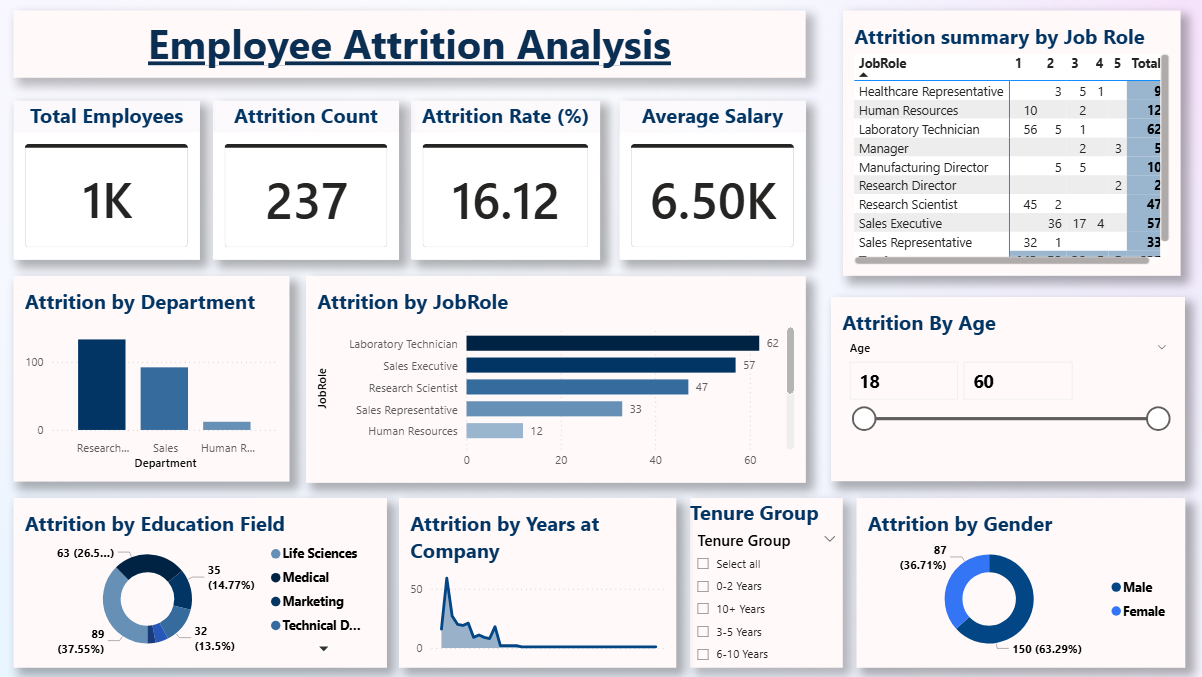

This screenshot's page, from the dashboard's own definition file:
{"tool":"powerbi","page":{"name":"Attrition Overview","canvas":[1280,720],"ordinal":0},"visuals":[{"type":"cardVisual","title":"Total Employees","fields":{"Data":["HR Data.Total Employees"]},"box":[17.5,106.6,197.2,168.6],"z":0},{"type":"cardVisual","title":"Attrition ","fields":{"Data":["HR Data.Attrition Count"]},"box":[229,106.6,197.2,168.6],"z":1000},{"type":"cardVisual","title":"Attrition Rate (%)","fields":{"Data":["HR Data.Attrition Rate (%)"]},"box":[439,106.6,200.4,168.6],"z":2000},{"type":"textbox","box":[17.5,11.1,839.8,71.6],"z":3000},{"type":"clusteredColumnChart","title":"Attrition by Department","fields":{"Category":["HR Data.Department"],"Y":["HR Data.Attrition Count"]},"box":[17.5,292.7,292.7,217.9],"z":4000},{"type":"clusteredBarChart","title":"Attrition by JobRole","fields":{"Category":["HR Data.JobRole"],"Y":["HR Data.Attrition Count"]},"box":[327.7,292.7,529.7,219.5],"z":5000},{"type":"slicer","title":"Tenure Group","fields":{"Values":["HR Data.Tenure Group"]},"box":[734.9,528.1,162.2,179.7],"z":6000},{"type":"donutChart","title":"Attrition by Gender","fields":{"Category":["HR Data.Gender"],"Y":["HR Data.Attrition Count"]},"box":[911.4,528.1,348.3,179.7],"z":7000},{"type":"cardVisual","title":"Average Salary","fields":{"Data":["Avg(HR Data.Monthly Income)"]},"box":[660.1,106.6,197.2,168.6],"z":8000},{"type":"pivotTable","title":"Attrition summary by Job Role","fields":{"Rows":["HR Data.JobRole"],"Columns":["HR Data.JobLevel"],"Values":["HR Data.Attrition Count"]},"box":[897.1,11.1,357.9,281.5],"z":9000},{"type":"donutChart","title":"Attrition by Education Field","fields":{"Category":["HR Data.EducationField","HR Data.Years at Company"],"Y":["HR Data.Attrition Count"]},"box":[17.5,528.1,396.1,179.7],"z":10000},{"type":"areaChart","title":"Attrition by Years at Company","fields":{"Category":["HR Data.Years at Company"],"Y":["HR Data.Attrition Count"]},"box":[426.3,528.1,294.3,179.7],"z":11000},{"type":"slicer","title":"Attrition By Age","fields":{"Values":["HR Data.Age"]},"box":[884.4,314.9,375.4,195.6],"z":12000}]}

Visuals, with their boxes in screenshot pixels (x1, y1, x2, y2), scaled from the page's 1280x720 canvas onto the 1202x677 screenshot:
"Total Employees" cardVisual: Rect(16, 100, 202, 259)
"Attrition " cardVisual: Rect(215, 100, 400, 259)
"Attrition Rate (%)" cardVisual: Rect(412, 100, 600, 259)
textbox: Rect(16, 10, 805, 78)
"Attrition by Department" clusteredColumnChart: Rect(16, 275, 291, 480)
"Attrition by JobRole" clusteredBarChart: Rect(308, 275, 805, 482)
"Tenure Group" slicer: Rect(690, 497, 842, 666)
"Attrition by Gender" donutChart: Rect(856, 497, 1183, 666)
"Average Salary" cardVisual: Rect(620, 100, 805, 259)
"Attrition summary by Job Role" pivotTable: Rect(842, 10, 1179, 275)
"Attrition by Education Field" donutChart: Rect(16, 497, 388, 666)
"Attrition by Years at Company" areaChart: Rect(400, 497, 677, 666)
"Attrition By Age" slicer: Rect(831, 296, 1183, 480)
